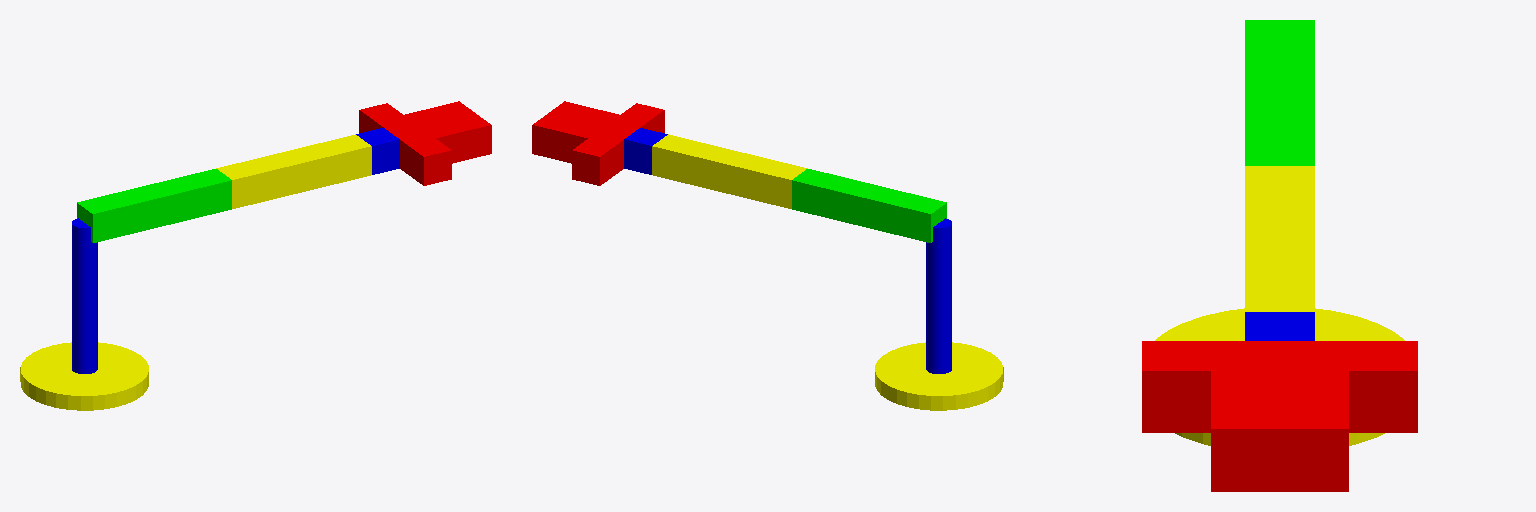
URDF robot description (simple_robot):
<?xml version="1.0"?>
<robot name="simple_robot">
<link name="world"/>
<joint name="fixed" type="fixed">
<parent link="world"/>
<child link="base_link"/>
</joint>
<link name="base_link">
<visual>
<geometry>
<cylinder length="0.05" radius="0.2"/>
</geometry>
<!--origin of the reference frame of the visual element with respect to the reference frame of the link -->
<!-- rpy - r is roll, p is pitch, y is yaw -->
<!-- xzy - x, y, z are offsets -->
<origin rpy = "0 0 0" xyz = "0 0 0" />
<material name = "yellow">
<color rgba = "1 1 0 1" />
</material>
</visual>
<collision>
<geometry>
<cylinder length="0.05" radius="0.2"/>
</geometry>
<!--origin of the reference frame of the visual element with respect to the reference frame of the link -->
<!-- rpy - r is roll, p is pitch, y is yaw -->
<!-- xzy - x, y, z are offsets -->
<origin rpy = "0 0 0" xyz = "0 0 0" />
</collision>
</link>
<joint name="joint_1" type="revolute">
<parent link="base_link"/>
<child link="first_link"/>
<origin xyz="0 0 0.025"/>
<axis xyz="0 0 1"/>
<limit effort="300" velocity="2.0" lower="-2.2" upper="2.2" />
</joint>
<link name="first_link">
<visual>
<geometry>
<cylinder length="0.5" radius="0.04"/>
</geometry>
<origin rpy="0 0 0" xyz="0 0 0.25"/>
<material name="blue">
<color rgba="0 0 1 1"/>
</material>
</visual>
<collision>
<geometry>
<cylinder length="0.5" radius="0.04"/>
</geometry>
<origin rpy="0 0 0" xyz="0 0 0.25"/>
</collision>
</link>
<joint name="joint_2" type="revolute">
<parent link="first_link"/>
<child link="second_link"/>
<origin xyz="0 0 0.5" rpy="1.57079633 0 0"/>
<axis xyz="0 0 1"/>
<limit effort="300" velocity="2.0" lower="-2.2" upper="2.2" />
</joint>
<link name="second_link">
<visual>
<geometry>
<box size="0.5 0.1 0.1"/>
</geometry>
<origin rpy="0 0 0" xyz="0.25 0 0"/>
<material name="green">
<color rgba="0 1 0 1"/>
</material>
</visual>
<collision>
<geometry>
<box size="0.5 0.1 0.1"/>
</geometry>
<origin rpy="0 0 0" xyz="0.25 0 0"/>
</collision>
</link>
<joint name="joint_3" type="revolute">
<parent link="second_link"/>
<child link="third_link"/>
<origin xyz="0.5 0 0"/>
<axis xyz="0 0 1"/>
<limit effort="300" velocity="2.0" lower="-2.2" upper="2.2" />
</joint>
<link name="third_link">
<visual>
<geometry>
<box size="0.5 0.1 0.1"/>
</geometry>
<origin rpy="0 0 0" xyz="0.25 0 0"/>
<material name="yellow">
<color rgba="1 1 0 1"/>
</material>
</visual>
<collision>
<geometry>
<box size="0.5 0.1 0.1"/>
</geometry>
<origin rpy="0 0 0" xyz="0.25 0 0"/>
</collision>
</link>
<joint name="joint_4" type="revolute">
<parent link="third_link"/>
<child link="fourth_link"/>
<origin xyz="0.5 0 0"/>
<axis xyz="0 0 1"/>
<limit effort="300" velocity="2.0" lower="-2.2" upper="2.2" />
</joint>
<link name="fourth_link">
<visual>
<geometry>
<box size="0.1 0.1 0.1"/>
</geometry>
<origin rpy="0 0 0" xyz="0.05 0 0"/>
<material name="blue">
<color rgba="0 0 1 1"/>
</material>
</visual>
<collision>
<geometry>
<box size="0.1 0.1 0.1"/>
</geometry>
<origin rpy="0 0 0" xyz="0.05 0 0"/>
</collision>
</link>
<joint name="joint_final" type="revolute">
<parent link="fourth_link"/>
<child link="hand"/>
<origin xyz="0.1 0 0" rpy="0 1.57079633 0"/>
<axis xyz="0 0 1"/>
<limit effort="300" velocity="2.0" lower="-2.2" upper="2.2" />
</joint>
<link name="hand">
<visual>
<geometry>
<box size="0.4 0.1 0.1"/>
</geometry>
<origin rpy="0 0 0" xyz="0 0 0.05"/>
<material name="red">
<color rgba="1 0 0 1"/>
</material>
</visual>
<collision>
<geometry>
<box size="0.4 0.1 0.1"/>
</geometry>
<origin rpy="0 0 0" xyz="0 0 0.05"/>
</collision>
</link>
<joint name="finger1_joint" type="prismatic">
<parent link="hand"/>
<child link="finger1"/>
<origin xyz="0 0 0.2" rpy="0 -1.57079633 0"/>
<axis xyz="0 0 1"/>
<limit effort="300" velocity="2.0" lower="0" upper="0.2" />
</joint>
<link name="finger1">
<visual>
<geometry>
<box size="0.2 0.1 0.1"/>
</geometry>
<origin rpy="0 0 0" xyz="0 0 0.05"/>
<material name="red">
<color rgba="1 0 0 1"/>
</material>
</visual>
<collision>
<geometry>
<box size="0.2 0.1 0.1"/>
</geometry>
<origin rpy="0 0 0" xyz="0 0 0.05"/>
</collision>
</link>
<joint name="finger2_joint" type="prismatic">
<parent link="hand"/>
<child link="finger2"/>
<origin xyz="0 0 0.2" rpy="0 -1.57079633 0"/>
<axis xyz="0 0 1"/>
<limit effort="300" velocity="2.0" lower="-0.2" upper="0" />
</joint>
<link name="finger2">
<visual>
<geometry>
<box size="0.2 0.1 0.1"/>
</geometry>
<origin rpy="0 0 0" xyz="0 0 -0.05"/>
<material name="red">
<color rgba="1 0 0 1"/>
</material>
</visual>
<collision>
<geometry>
<box size="0.2 0.1 0.1"/>
</geometry>
<origin rpy="0 0 0" xyz="0 0 -0.05"/>
</collision>
</link>
</robot>

--- Render facts (derived) ---
Views: 3 orthographic renders of the robot side by side, from view 1: azimuth 30°, elevation 25°; view 2: azimuth 150°, elevation 25°; view 3: azimuth 270°, elevation 25°.
Robot: simple_robot — 9 links, 8 joints (5 revolute, 2 prismatic, 1 fixed); root link world; default pose: all joints at 0.
Visible links, largest first — view 1: base_link, second_link, third_link, first_link, hand, finger1, fourth_link, finger2; view 2: base_link, second_link, third_link, first_link, hand, finger2, fourth_link, finger1; view 3: hand, second_link, third_link, finger1, finger2, base_link, fourth_link.
Link boxes in pixels (x1,y1,x2,y2): base_link: [20, 342, 148, 410]; second_link: [77, 169, 231, 242]; third_link: [216, 134, 371, 208]; first_link: [72, 218, 97, 373]; hand: [359, 103, 451, 185]; finger1: [420, 113, 491, 163]; fourth_link: [356, 128, 399, 174]; finger2: [404, 101, 474, 126]; base_link: [875, 342, 1003, 410]; second_link: [792, 169, 946, 242]; third_link: [652, 134, 807, 208]; first_link: [926, 218, 951, 373]; hand: [572, 103, 664, 185]; finger2: [532, 113, 603, 163]; fourth_link: [624, 128, 667, 174]; finger1: [549, 101, 619, 126]; hand: [1142, 341, 1417, 432]; second_link: [1245, 20, 1314, 165]; third_link: [1245, 166, 1314, 311]; finger1: [1211, 371, 1279, 491]; finger2: [1280, 371, 1348, 491]; base_link: [1155, 308, 1404, 445]; fourth_link: [1245, 312, 1314, 340].
Bounding box of the posed robot: 1.6 × 0.4 × 0.6 m (x, y, z).
Geometry: primitives only (box / cylinder / sphere), no mesh files.
